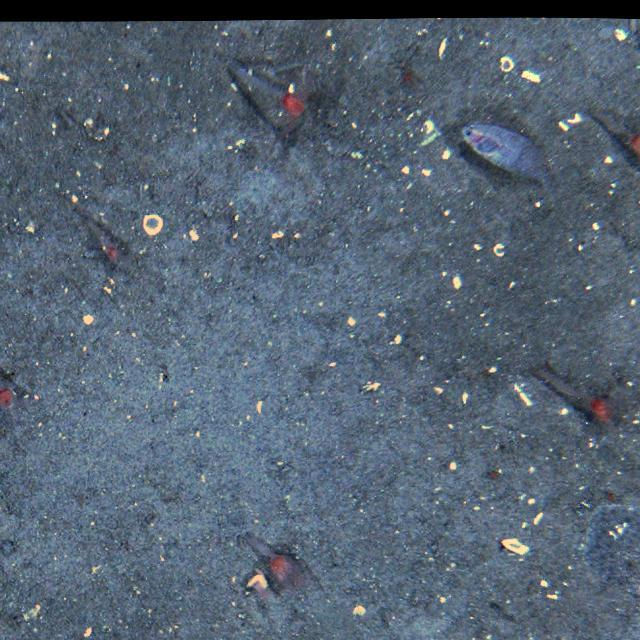flatfish: (460, 120, 552, 200)
